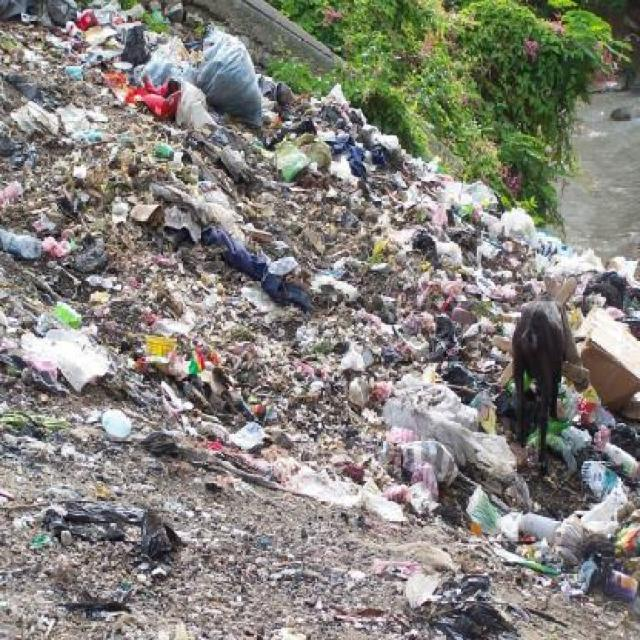garbage: (1, 1, 496, 640), (579, 309, 640, 640), (500, 447, 576, 636), (511, 203, 640, 304)
